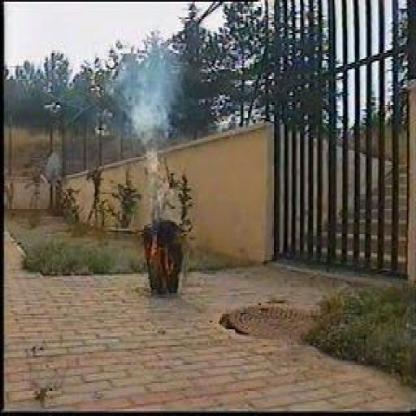-: (124, 48, 182, 146)
foggia-v2-map80-epoch100 - v1 4323: (147, 230, 175, 274)
